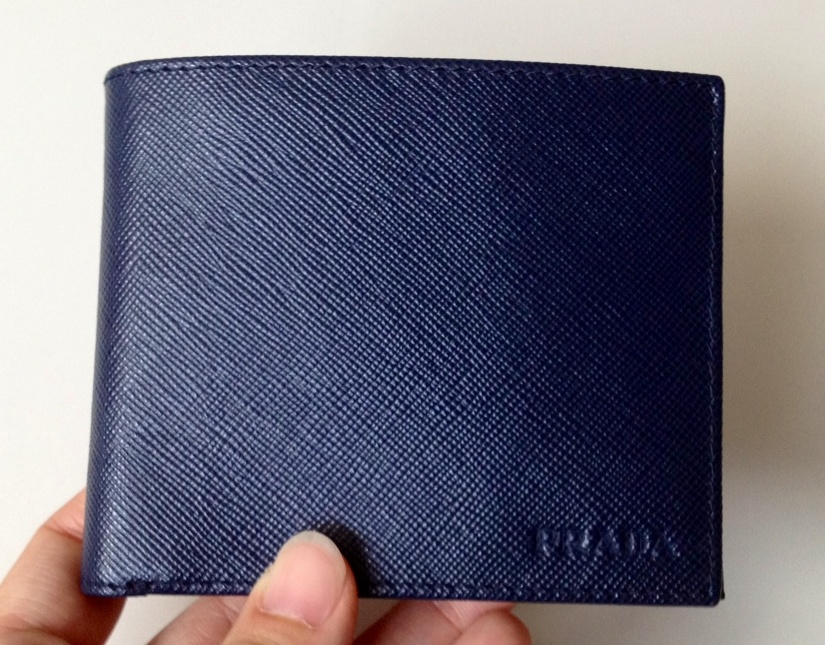monedero: (74, 52, 731, 613)
